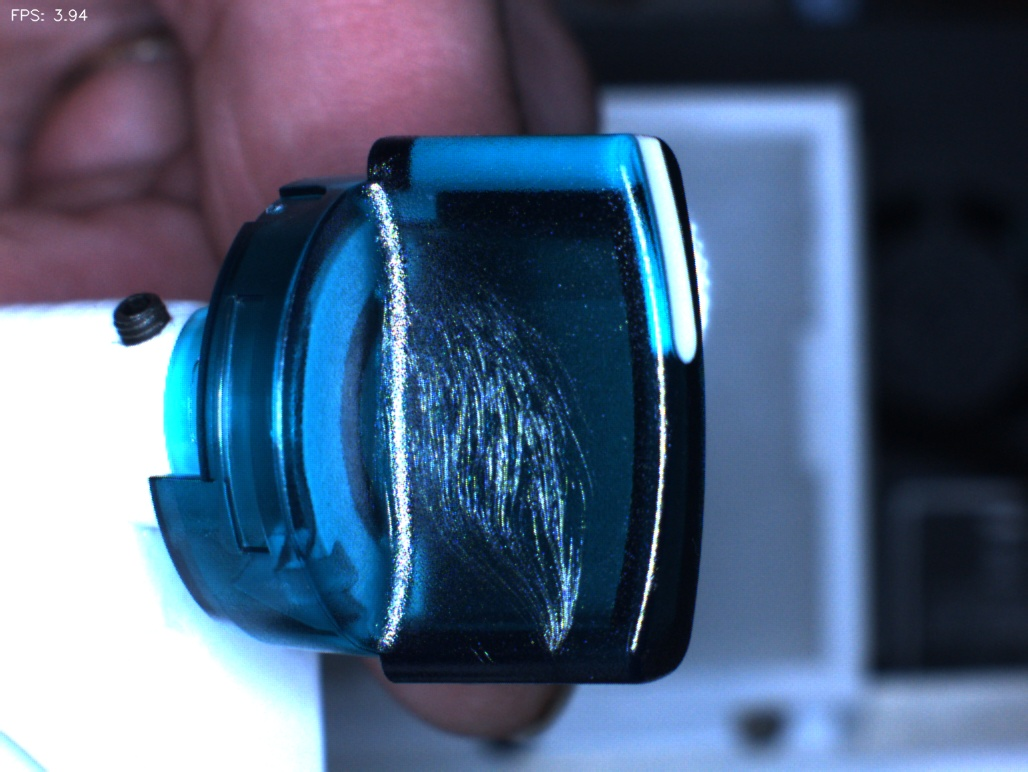Givrage: (404, 277, 591, 654)
